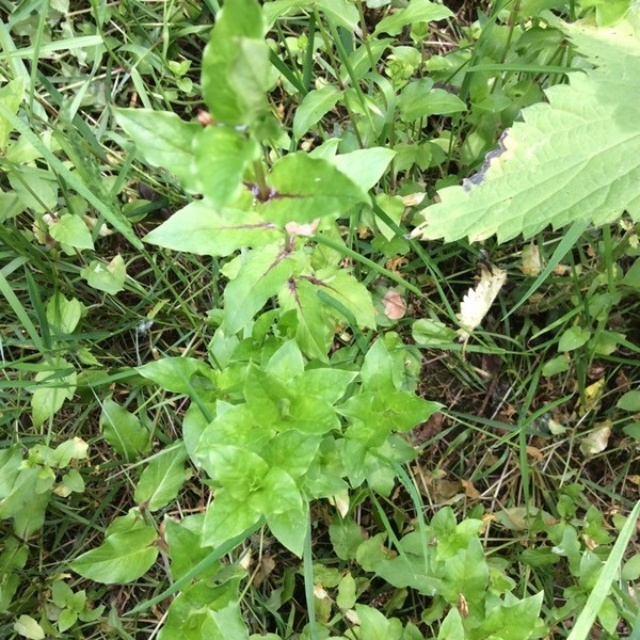obstacle: (144, 83, 416, 535)
